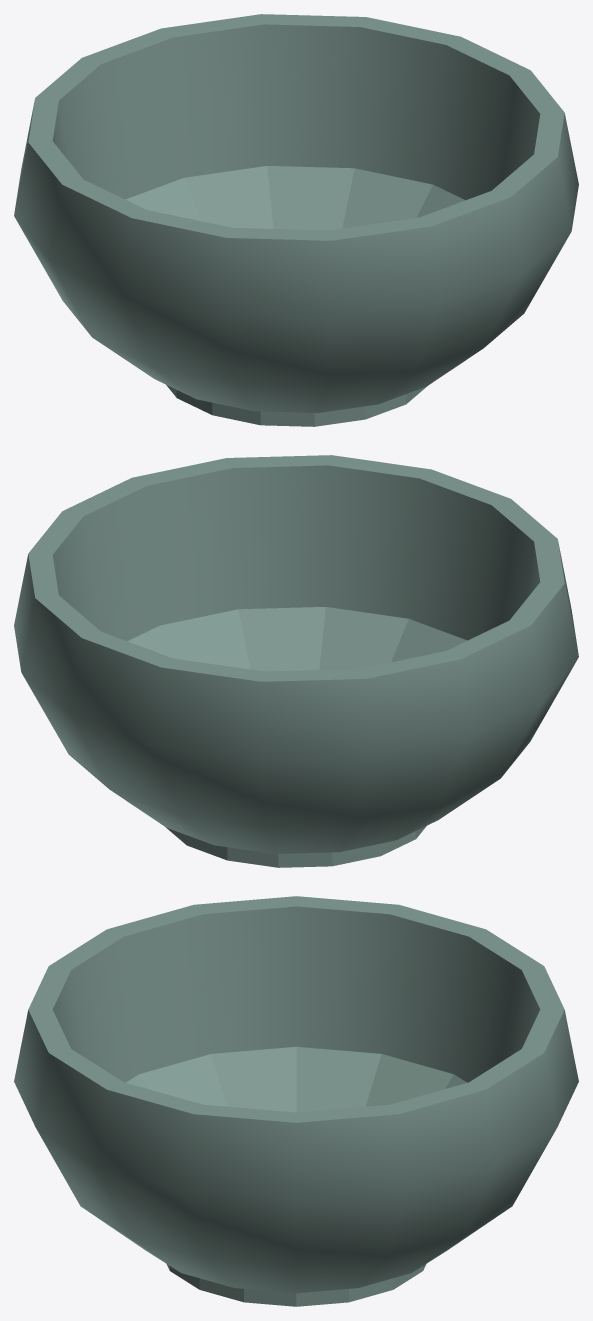
File: mangkok.fbx
3 renders of one model, top to bottom at view 1: azimuth 30°, elevation 25°; view 2: azimuth 150°, elevation 25°; view 3: azimuth 270°, elevation 25°, orthographic.
Visible parts, largest first — view 1: pCylinder2; view 2: pCylinder2; view 3: pCylinder2.
Boxes of the visible parts, <box> form: pCylinder2: <box>14,14,578,426</box>; pCylinder2: <box>14,455,578,867</box>; pCylinder2: <box>14,896,578,1306</box>.
Size of the model in its own units: 6.43 by 3.01 by 6.43.
